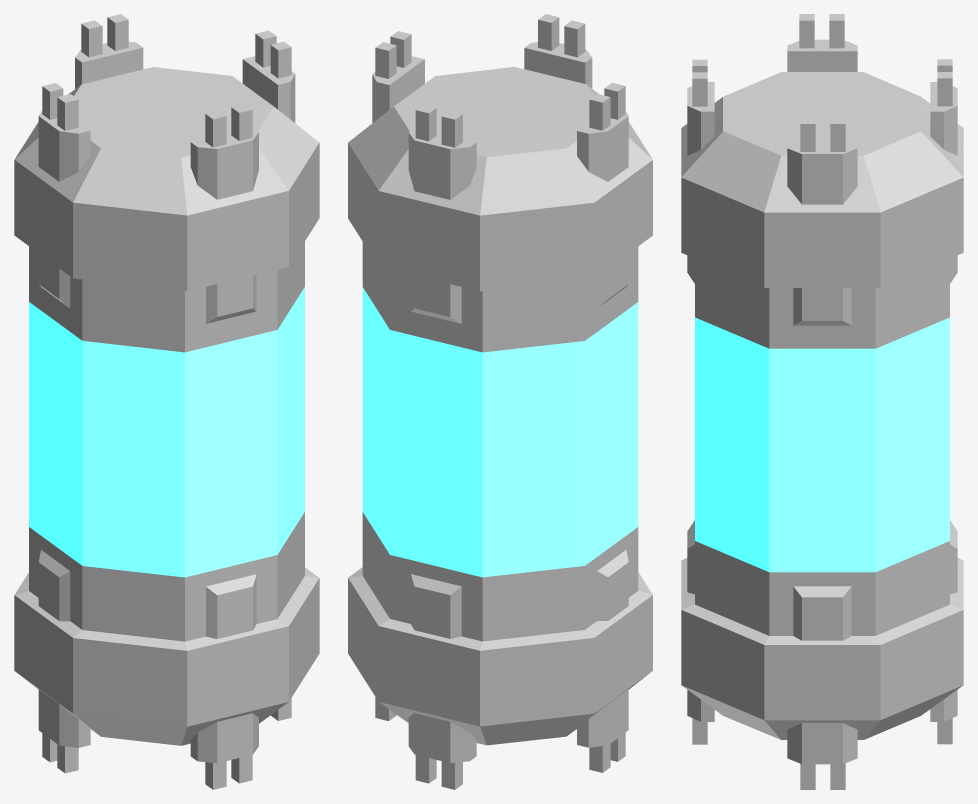
The model's file is entity343830.glb.
3 views of the same model, side by side, from view 1: azimuth 30°, elevation 25°; view 2: azimuth 150°, elevation 25°; view 3: azimuth 270°, elevation 25° (orthographic).
Parts seen in each view (by area): view 1: node_SM_Prop_PowerCell_03 (11); view 2: node_SM_Prop_PowerCell_03 (11); view 3: node_SM_Prop_PowerCell_03 (11).
Boxes of the visible parts, x1,y1,x2,y2 form: node_SM_Prop_PowerCell_03 (11): (14,14,319,789); node_SM_Prop_PowerCell_03 (11): (348,14,652,789); node_SM_Prop_PowerCell_03 (11): (681,14,963,789).
Size of the model in its own units: 0.1558 by 0.4052 by 0.1558.
